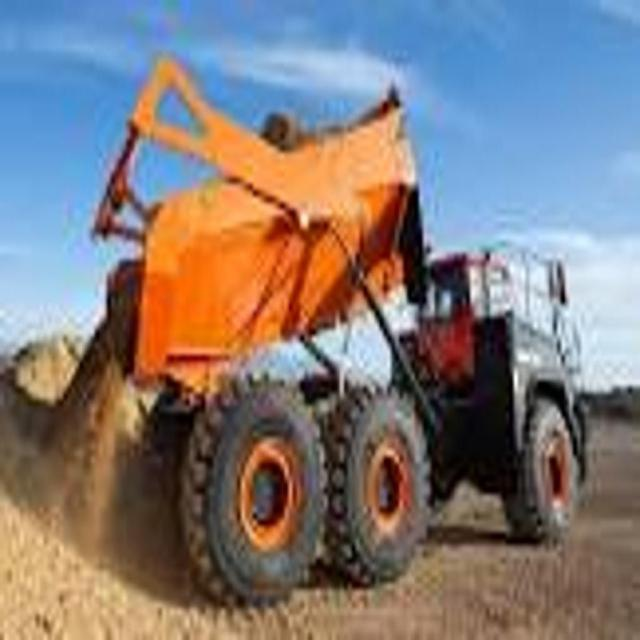dump_truck: (94, 51, 592, 598)
